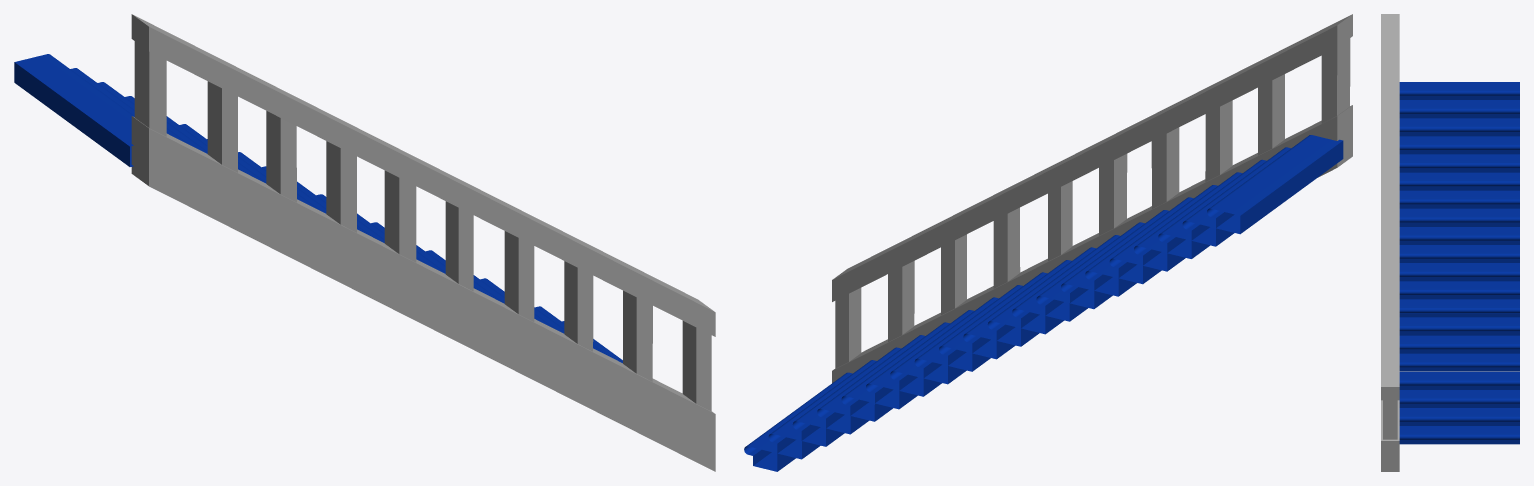
File: StairsTest2.fbx
The picture shows the model from 3 angles, left to right: view 1: azimuth 30°, elevation 25°; view 2: azimuth 150°, elevation 25°; view 3: azimuth 270°, elevation 25°; orthographic projection. The views are drawn at different scales.
Visible parts, largest first — view 1: Stairs11; view 2: Stairs11; view 3: Stairs11.
Boxes of the visible parts, left/top/right/bottom form: Stairs11: left=14, top=14, right=715, bottom=471; Stairs11: left=744, top=14, right=1352, bottom=471; Stairs11: left=1381, top=14, right=1519, bottom=471.
Bounding box in the file's own units: 28.86 × 28.2 × 11.42.
